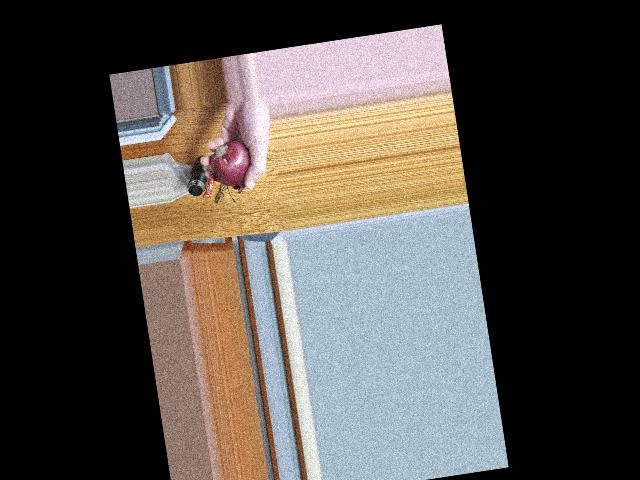onion: (211, 149, 249, 187)
